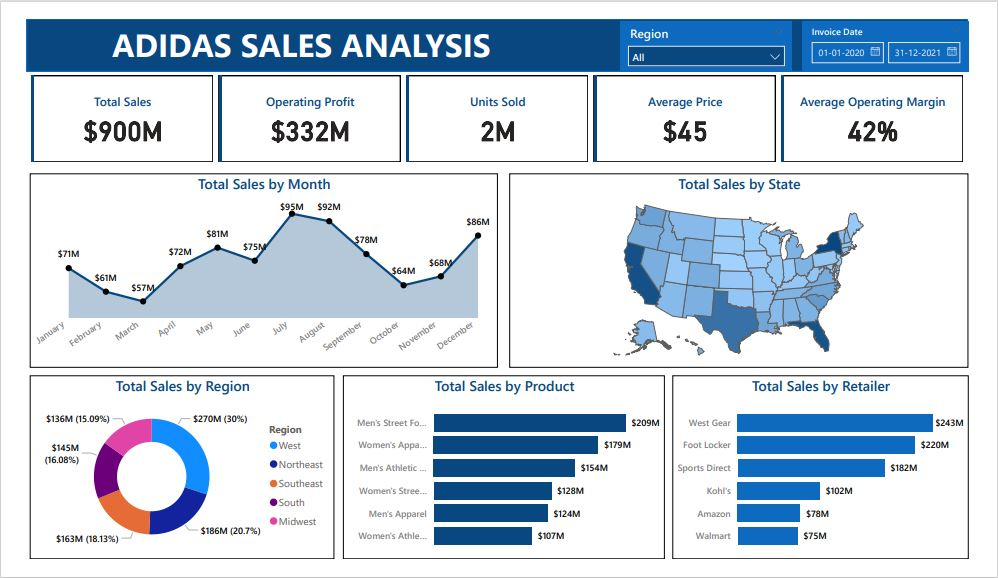

This screenshot's page, from the dashboard's own definition file:
{"tool":"powerbi","page":{"name":"Page 1","canvas":[1280,720],"ordinal":0},"visuals":[{"type":"shape","box":[10.1,0,1255,70],"z":0},{"type":"textbox","box":[113.8,0,525.6,67.7],"z":1000},{"type":"cardVisual","fields":{"Data":["Sum(Data Sales Adidas.Total Sales)","Sum(Data Sales Adidas.Operating Profit)","Sum(Data Sales Adidas.Units Sold)","Avg(Data Sales Adidas.Price per Unit)","Avg(Data Sales Adidas.Operating Margin)"]},"box":[11.5,70.6,1254.2,125],"z":2000},{"type":"areaChart","title":"Total Sales by Month","fields":{"Category":["Data Sales Adidas.Invoice Date.Variation.Date Hierarchy.Month"],"Y":["Sum(Data Sales Adidas.Total Sales)"]},"box":[14.4,205.9,623.5,259.2],"z":3000},{"type":"shapeMap","title":"Total Sales by State","fields":{"Value":["Sum(Data Sales Adidas.Total Sales)"],"Category":["Data Sales Adidas.State"]},"box":[653.8,205.9,612,259.2],"z":4000},{"type":"donutChart","fields":{"Category":["Data Sales Adidas.Region"],"Y":["Sum(Data Sales Adidas.Total Sales)"]},"box":[14.4,475.2,406.1,244.8],"z":5000},{"type":"clusteredBarChart","title":"Total Sales by Product","fields":{"Y":["Sum(Data Sales Adidas.Total Sales)"],"Category":["Data Sales Adidas.Product"]},"box":[432,475.2,429.1,244.8],"z":6000},{"type":"clusteredBarChart","title":"Total Sales by Retailer","fields":{"Y":["Sum(Data Sales Adidas.Total Sales)"],"Category":["Data Sales Adidas.Retailer"]},"box":[871.2,475.2,394.6,244.8],"z":7000},{"type":"slicer","fields":{"Values":["Data Sales Adidas.Region"]},"box":[802.7,3.6,228.8,66.1],"z":8000},{"type":"slicer","fields":{"Values":["Data Sales Adidas.Invoice Date"]},"box":[1044,2.9,221.8,67.7],"z":9000}]}

Visuals, with their boxes in screenshot pixels (x1, y1, x2, y2), scaled from the page's 1280x720 canvas onto the 998x578 screenshot:
shape: {"left": 8, "top": 0, "right": 986, "bottom": 56}
textbox: {"left": 89, "top": 0, "right": 499, "bottom": 54}
cardVisual - Sum(Data Sales Adidas.Total Sales) x Sum(Data Sales Adidas.Operating Profit): {"left": 9, "top": 57, "right": 987, "bottom": 157}
"Total Sales by Month" areaChart: {"left": 11, "top": 165, "right": 497, "bottom": 373}
"Total Sales by State" shapeMap: {"left": 510, "top": 165, "right": 987, "bottom": 373}
donutChart - Data Sales Adidas.Region x Sum(Data Sales Adidas.Total Sales): {"left": 11, "top": 381, "right": 328, "bottom": 577}
"Total Sales by Product" clusteredBarChart: {"left": 337, "top": 381, "right": 671, "bottom": 577}
"Total Sales by Retailer" clusteredBarChart: {"left": 679, "top": 381, "right": 987, "bottom": 577}
slicer - Data Sales Adidas.Region: {"left": 626, "top": 3, "right": 804, "bottom": 56}
slicer - Data Sales Adidas.Invoice Date: {"left": 814, "top": 2, "right": 987, "bottom": 57}
